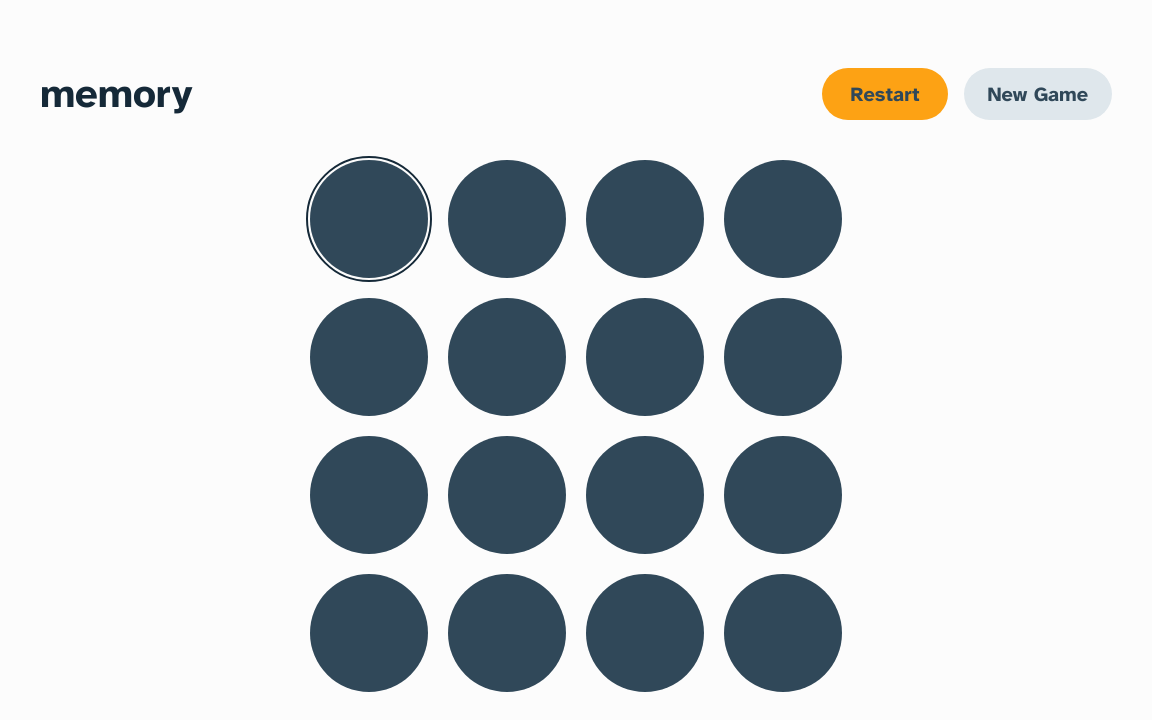
Test: GameScreen › waits for the first flip to start the clock
Click the 1st button named "Hidden tile". click: coordinates (369, 219)
box: [310, 160, 428, 278]
Wait 61000 ms
(page scrolled)
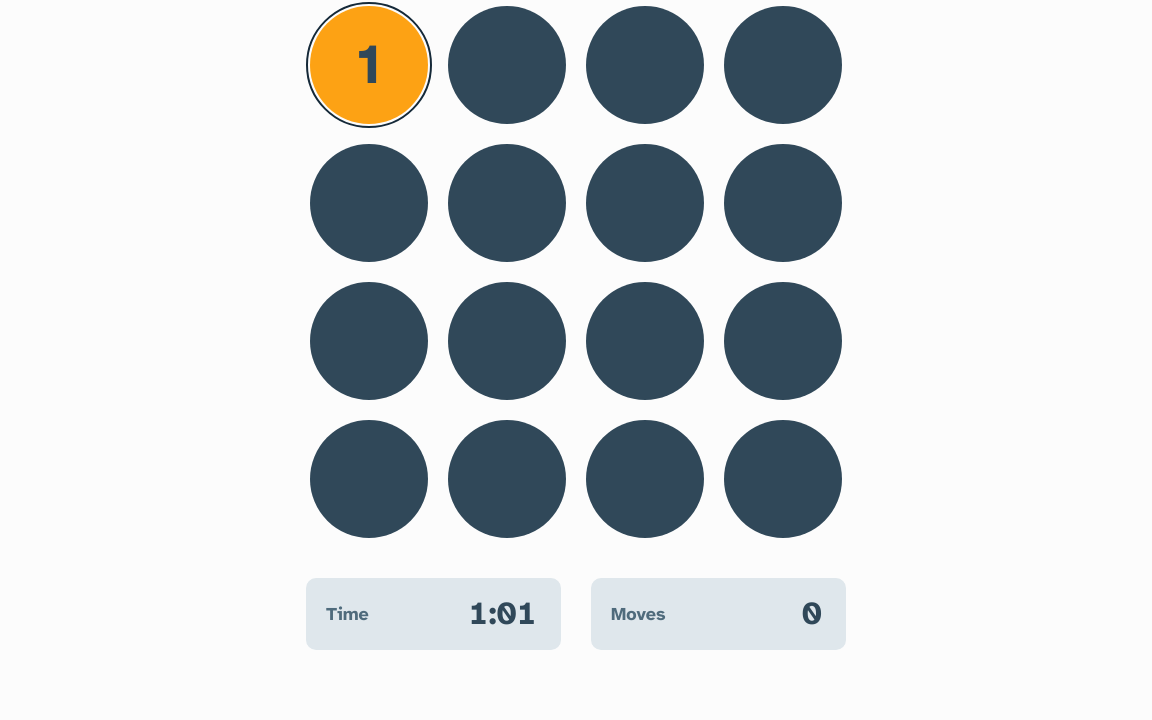
Expected: the element showing "1:01" is shown, [468, 594, 537, 634]
